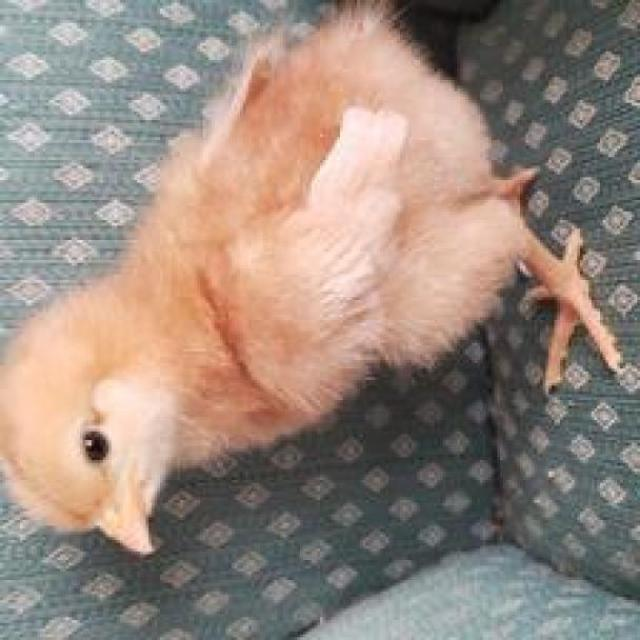Chicken: (4, 10, 640, 577)
